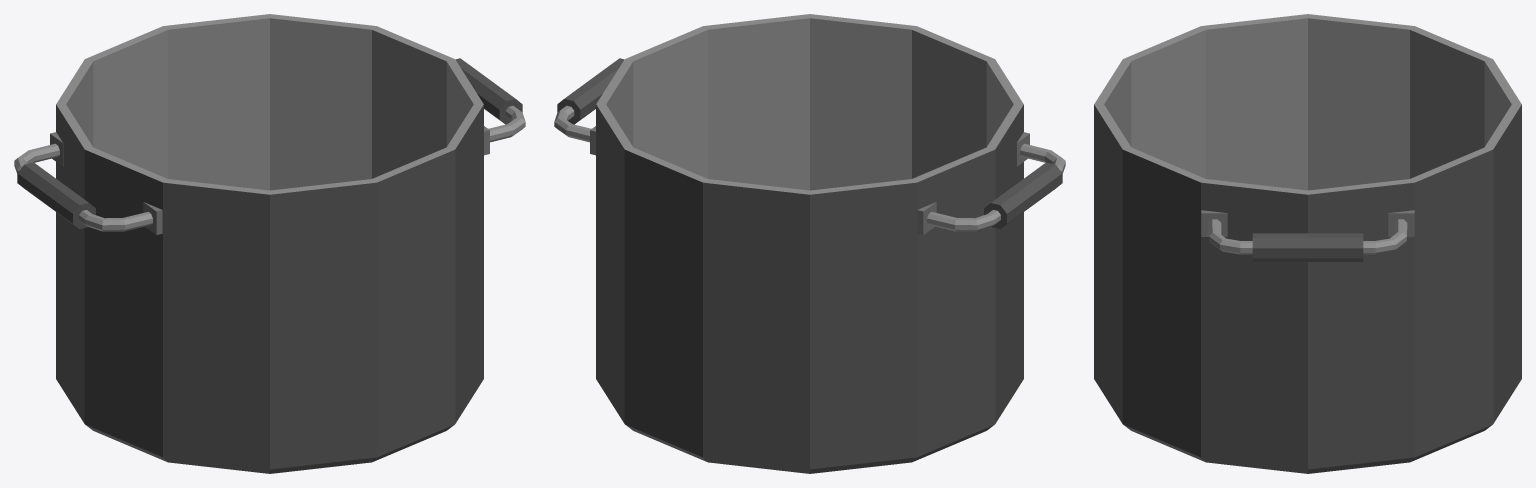
Rendered from Pan_02_C2.fbx.
The picture shows the model from 3 angles, left to right: view 1: azimuth 30°, elevation 25°; view 2: azimuth 150°, elevation 25°; view 3: azimuth 270°, elevation 25°; orthographic projection.
Parts seen in each view (by area): view 1: Pan_02_C2; view 2: Pan_02_C2; view 3: Pan_02_C2.
Part boxes in pixels (x1=…): Pan_02_C2: x1=14, y1=14, x2=525, y2=473; Pan_02_C2: x1=554, y1=14, x2=1065, y2=473; Pan_02_C2: x1=1094, y1=14, x2=1521, y2=473.
Size of the model in its own units: 22.28 by 13.42 by 18.36.
